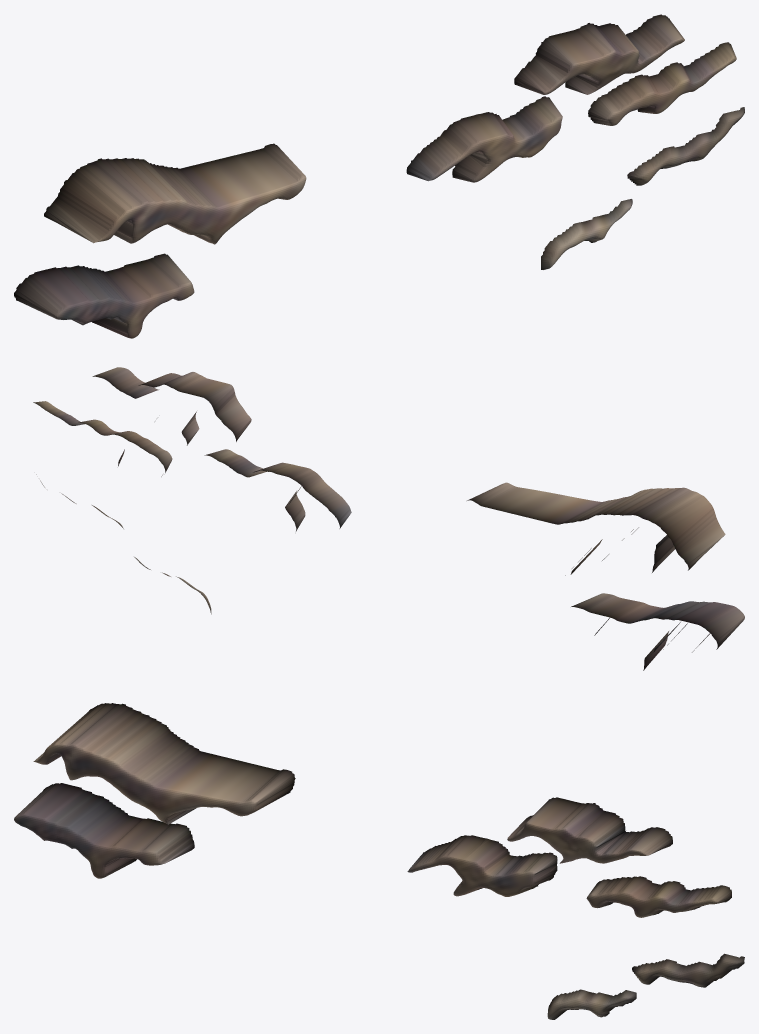
The model's file is rock_7_hollow.glb.
The picture shows the model from 3 angles, top to bottom: view 1: azimuth 30°, elevation 25°; view 2: azimuth 150°, elevation 25°; view 3: azimuth 330°, elevation 25°; orthographic projection. The views are drawn at different scales.
Parts seen in each view (by area): view 1: GLTF; view 2: GLTF; view 3: GLTF.
Part boxes in pixels (x1,y1,x2,y2): GLTF: (14,14,744,338); GLTF: (33,367,744,670); GLTF: (14,703,744,1019).
Size of the model in its own units: 7.28 by 2.24 by 0.8714.
